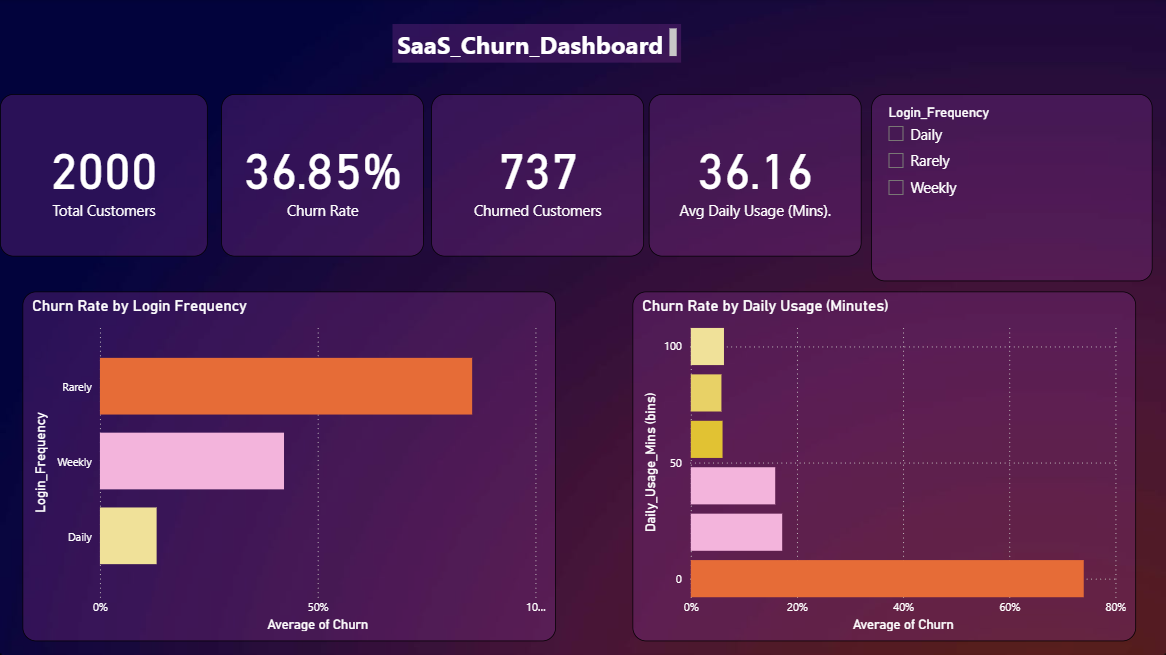

What the dashboard file says about the page in this screenshot:
{"tool":"powerbi","page":{"name":"Page 1","canvas":[1280,720],"ordinal":0},"visuals":[{"type":"card","fields":{"Values":["Count(customers_full_export.customer_id)"]},"box":[0,104.3,227.8,178.4],"z":0},{"type":"card","fields":{"Values":["Avg(customers_full_export.Churn)","select"]},"box":[242.9,104.3,222.3,178.4],"z":1000},{"type":"textbox","box":[430.9,27.4,317,42.5],"z":2000},{"type":"clusteredBarChart","title":"Churn Rate by Login Frequency","fields":{"Y":["Avg(customers_full_export.Churn)"],"Category":["customers_full_export.Login_Frequency"]},"box":[24.7,321.1,585.9,384.2],"z":3000},{"type":"clusteredBarChart","title":"Churn Rate by Daily Usage (Minutes)","fields":{"Y":["Avg(customers_full_export.Churn)"],"Category":["customers_full_export.Daily_Usage_Mins (bins)"]},"box":[694.3,321.1,553,384.2],"z":4000},{"type":"slicer","fields":{"Values":["customers_full_export.Login_Frequency"]},"box":[956.4,104.3,308.7,205.8],"z":5000},{"type":"card","fields":{"Values":["customers_full_export.Churned Customers"]},"box":[473.4,104.3,233.3,178.4],"z":6000},{"type":"card","fields":{"Values":["Avg(customers_full_export.Daily_Usage_Mins)"]},"box":[712.2,104.3,233.3,178.4],"z":7000}]}

Visuals, with their boxes in screenshot pixels (x1, y1, x2, y2), scaled from the page's 1280x720 canvas onto the 1166x655 screenshot:
card - Count(customers_full_export.customer_id): 0/95/208/257
card - Avg(customers_full_export.Churn) x select: 221/95/424/257
textbox: 393/25/681/64
"Churn Rate by Login Frequency" clusteredBarChart: 23/292/556/642
"Churn Rate by Daily Usage (Minutes)" clusteredBarChart: 632/292/1136/642
slicer - customers_full_export.Login_Frequency: 871/95/1152/282
card - customers_full_export.Churned Customers: 431/95/644/257
card - Avg(customers_full_export.Daily_Usage_Mins): 649/95/861/257
